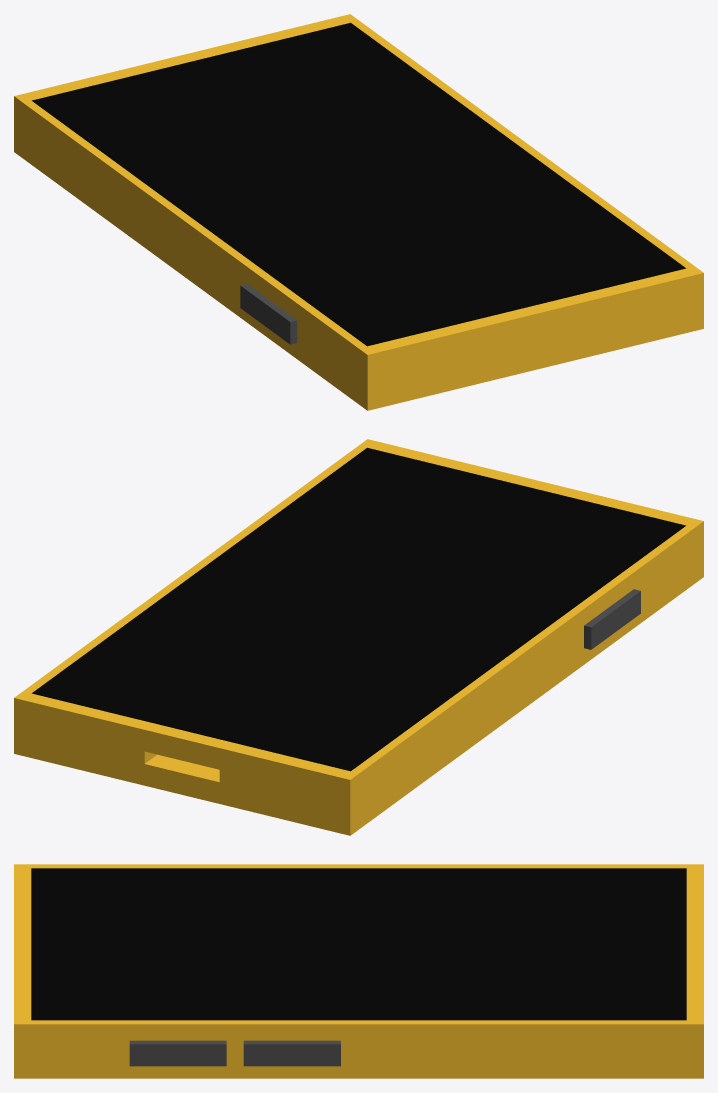
Rendered from phone.glb.
The picture shows the model from 3 angles, top to bottom: view 1: azimuth 30°, elevation 25°; view 2: azimuth 150°, elevation 25°; view 3: azimuth 270°, elevation 25°; orthographic projection. The views are drawn at different scales.
Parts seen in each view (by area): view 1: Cube, Cube.001; view 2: Cube, Cube.001; view 3: Cube, Cube.002, Cube.003.
Part boxes in pixels (box(x1,y1,x2,y2)): Cube: box(14, 14, 703, 410); Cube.001: box(240, 284, 297, 344); Cube: box(14, 439, 703, 835); Cube.001: box(584, 589, 640, 649); Cube: box(14, 864, 703, 1078); Cube.002: box(129, 1040, 226, 1066); Cube.003: box(243, 1040, 340, 1066).
Bounding box in the file's own units: 3.24 × 0.7269 × 5.65.
